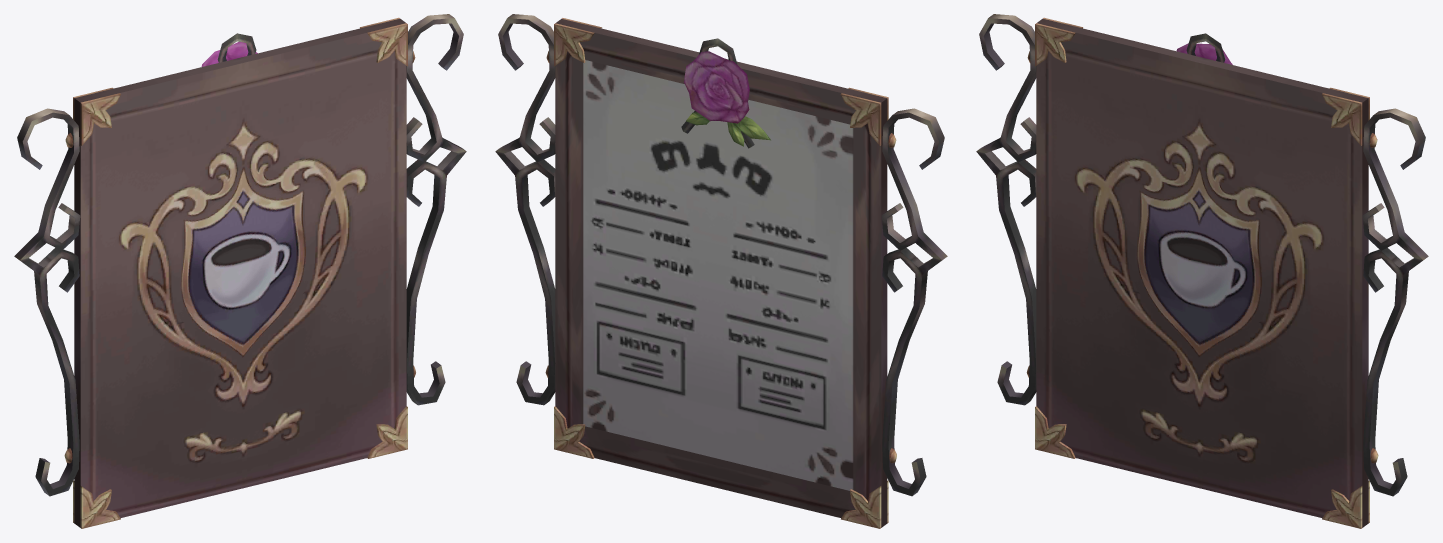
The model's file is Hero_Veronica_Cos18Maid_Weapon_L.fbx.
3 renders of one model, left to right at view 1: azimuth 30°, elevation 25°; view 2: azimuth 150°, elevation 25°; view 3: azimuth 330°, elevation 25°, orthographic.
Parts seen in each view (by area): view 1: Hero_Veronica_Cos18Maid_Weapon_L; view 2: Hero_Veronica_Cos18Maid_Weapon_L; view 3: Hero_Veronica_Cos18Maid_Weapon_L.
Part boxes in pixels (x1,y1,x2,y2): Hero_Veronica_Cos18Maid_Weapon_L: (14, 14, 466, 528); Hero_Veronica_Cos18Maid_Weapon_L: (495, 14, 947, 528); Hero_Veronica_Cos18Maid_Weapon_L: (976, 14, 1428, 528).
Bounding box in the file's own units: 0.3078 × 0.2962 × 0.0136.
Materials: 1 (1 with a texture image).
